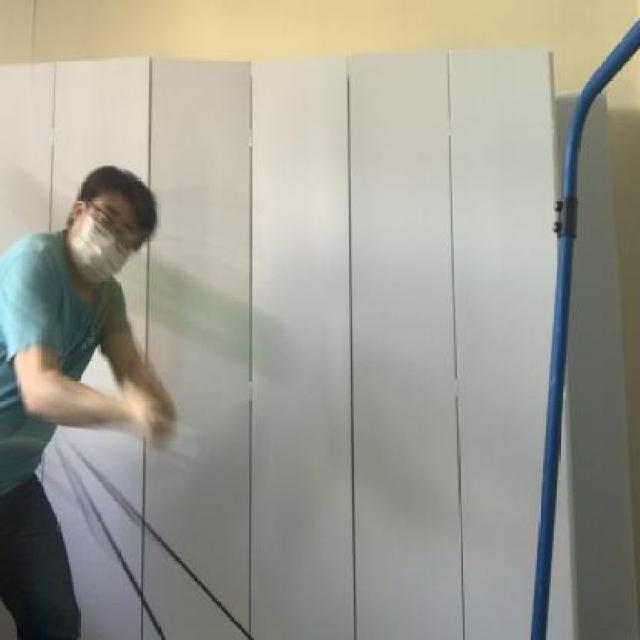baseball: (98, 248, 296, 389)
